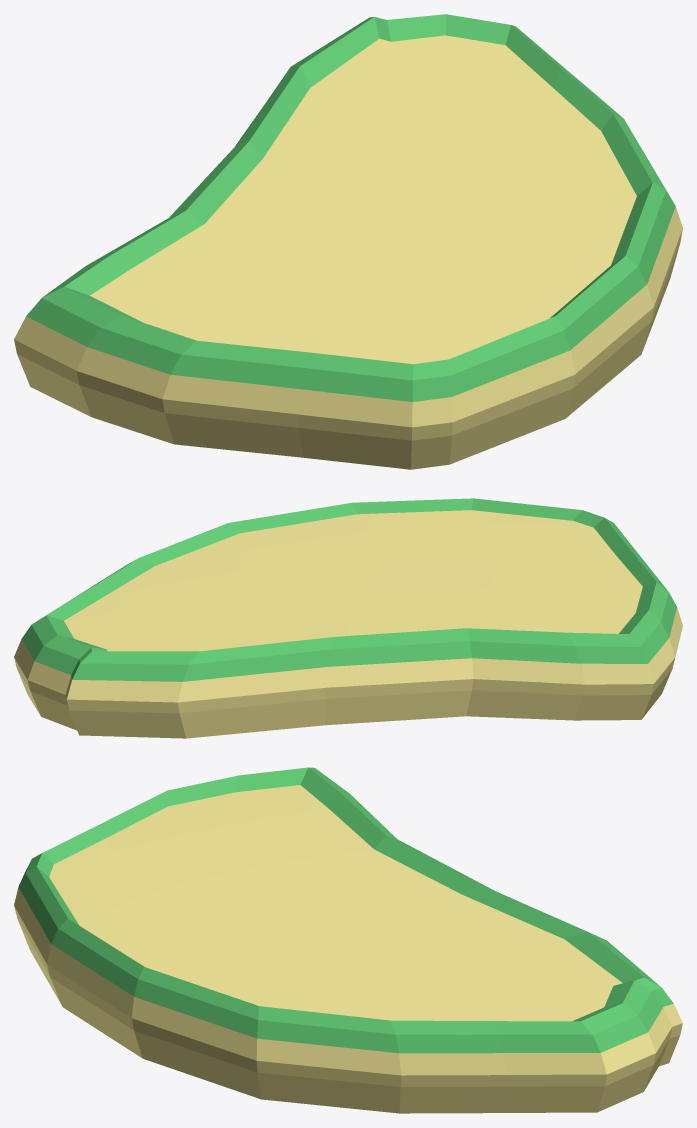
File: MiniPlatform01.fbx
The picture shows the model from 3 angles, top to bottom: view 1: azimuth 30°, elevation 25°; view 2: azimuth 150°, elevation 25°; view 3: azimuth 270°, elevation 25°; orthographic projection. The views are drawn at different scales.
Parts seen in each view (by area): view 1: Plane.028; view 2: Plane.028; view 3: Plane.028.
Boxes of the visible parts, x1=… form: Plane.028: x1=14, y1=14, x2=682, y2=469; Plane.028: x1=14, y1=498, x2=682, y2=738; Plane.028: x1=14, y1=767, x2=682, y2=1113.
Bounding box in the file's own units: 1256 × 202 × 1279.
